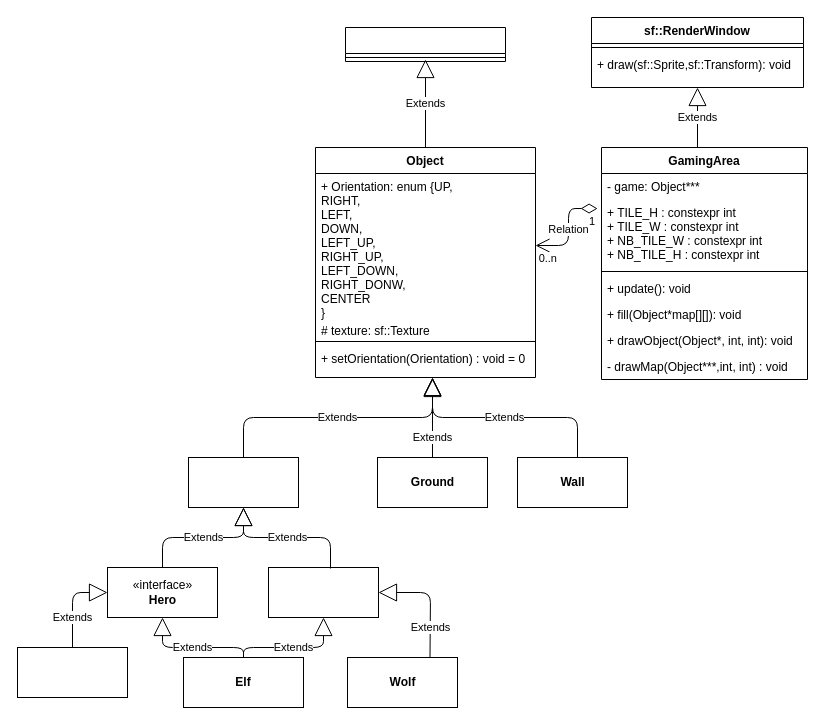
Image size: 825x725. Some labels were removed from this diagram. The shapes that lost their labels are listed below. From the top down, each one's centre as x and y in pixels, then its label:
point (425, 44): sf::Sprite
point (243, 482): «interface» Perso
point (323, 592): «interface» Enemy
point (72, 672): Knight
